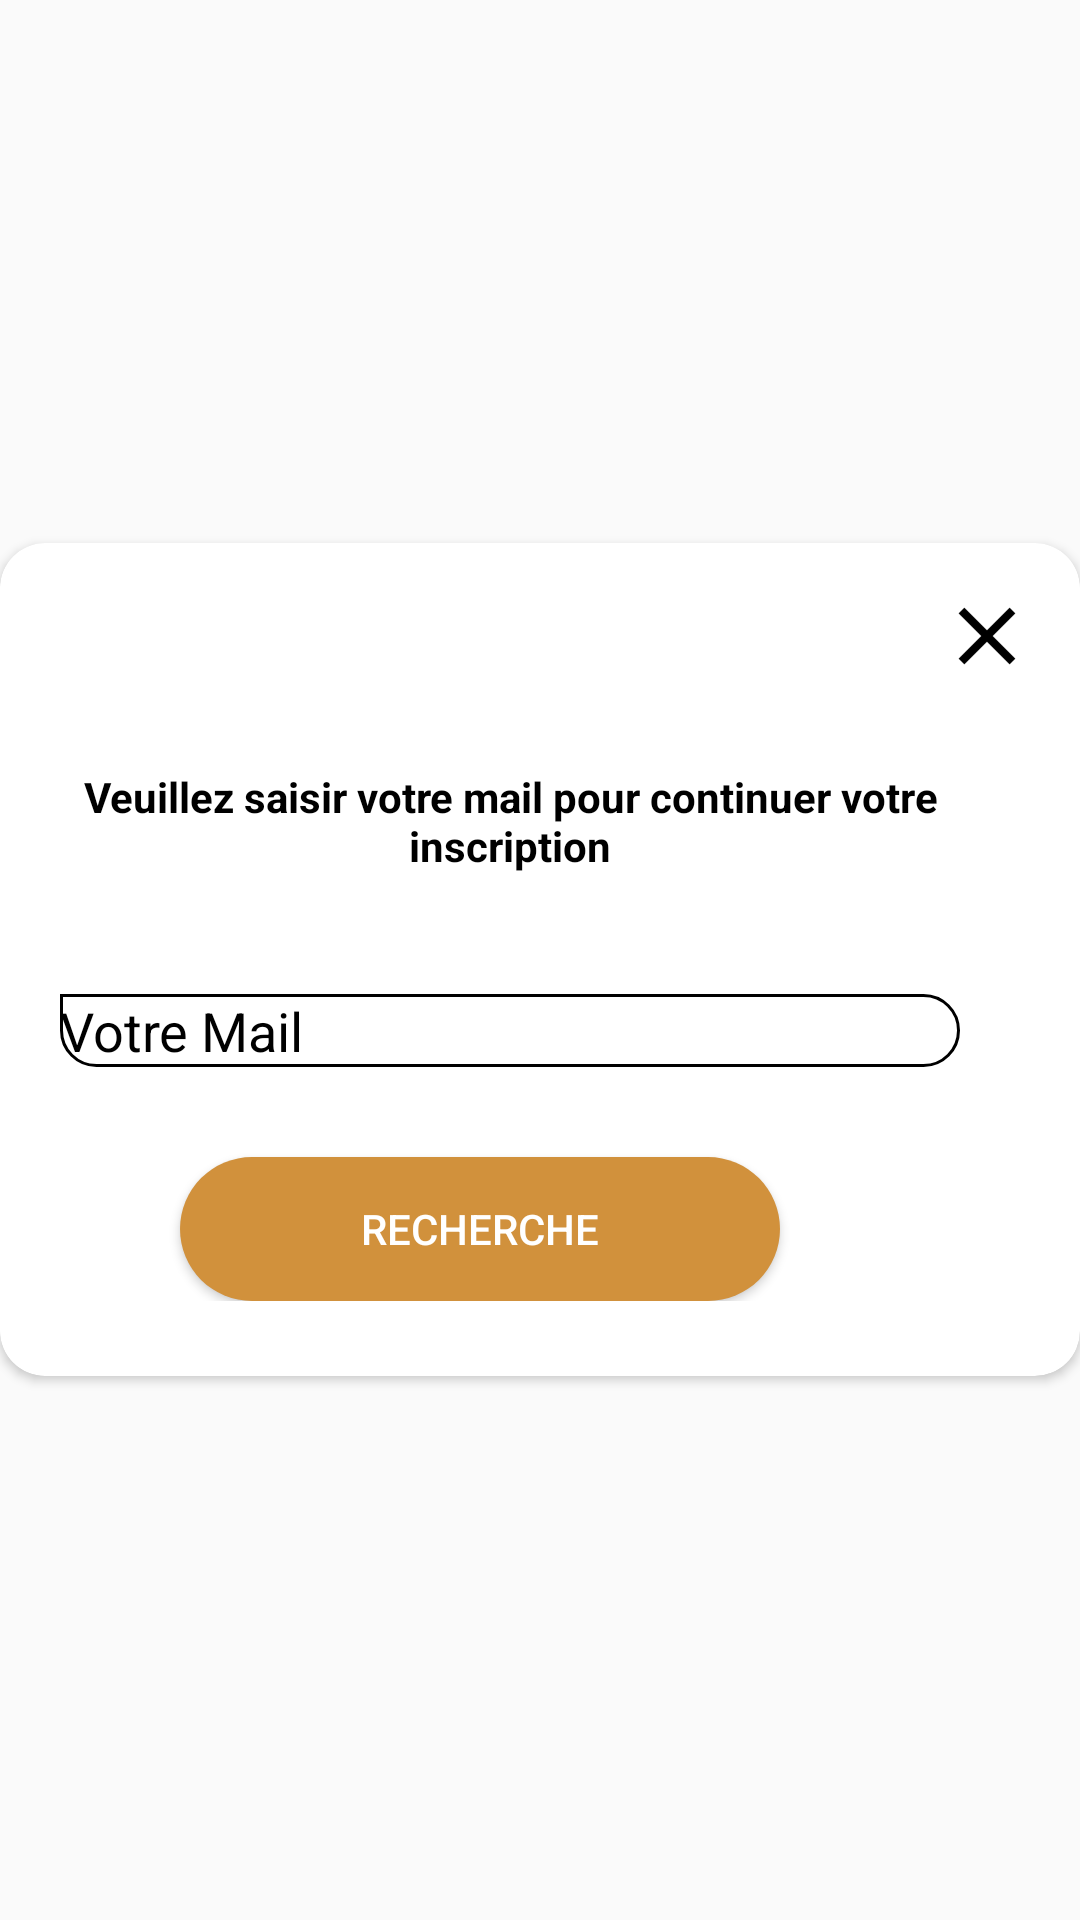

Screen size 1080x1920. Icon name, then its box in pixels as box(x1, y1, x2, y2):
close: box(958, 607, 1016, 665)
